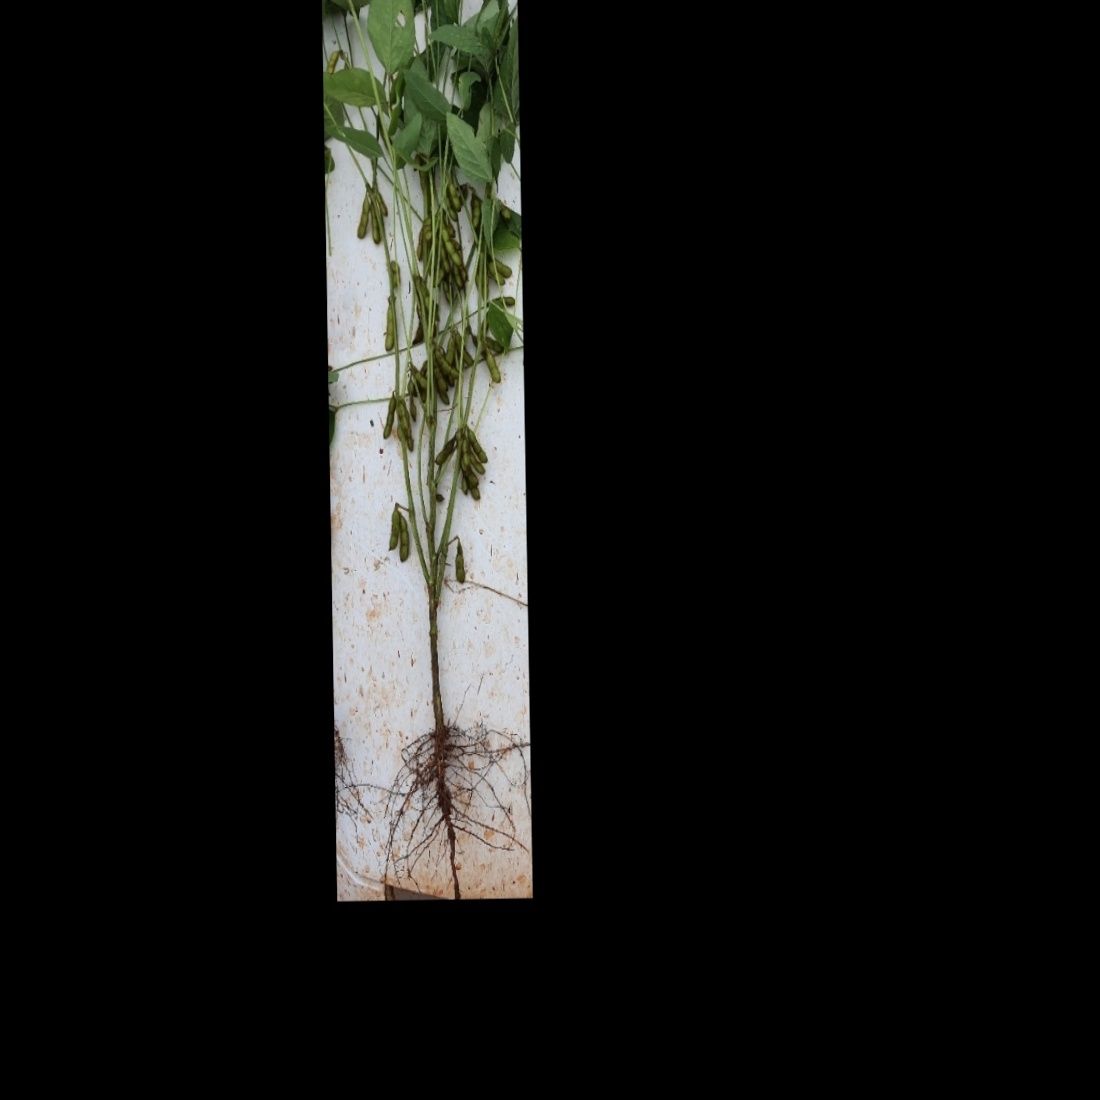pod: (438, 216, 465, 270), (461, 426, 492, 470), (429, 347, 464, 381), (377, 297, 398, 354), (430, 430, 460, 466), (380, 387, 399, 442), (462, 433, 486, 475), (352, 195, 371, 244), (396, 512, 412, 566), (381, 510, 402, 550), (484, 350, 505, 390), (451, 540, 470, 584), (445, 177, 462, 215)
soy: (325, 0, 525, 869)
